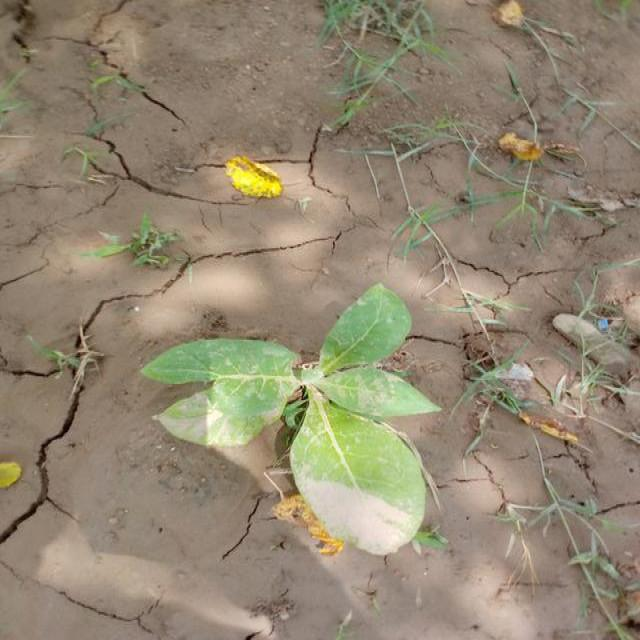crop: (155, 295, 435, 565)
